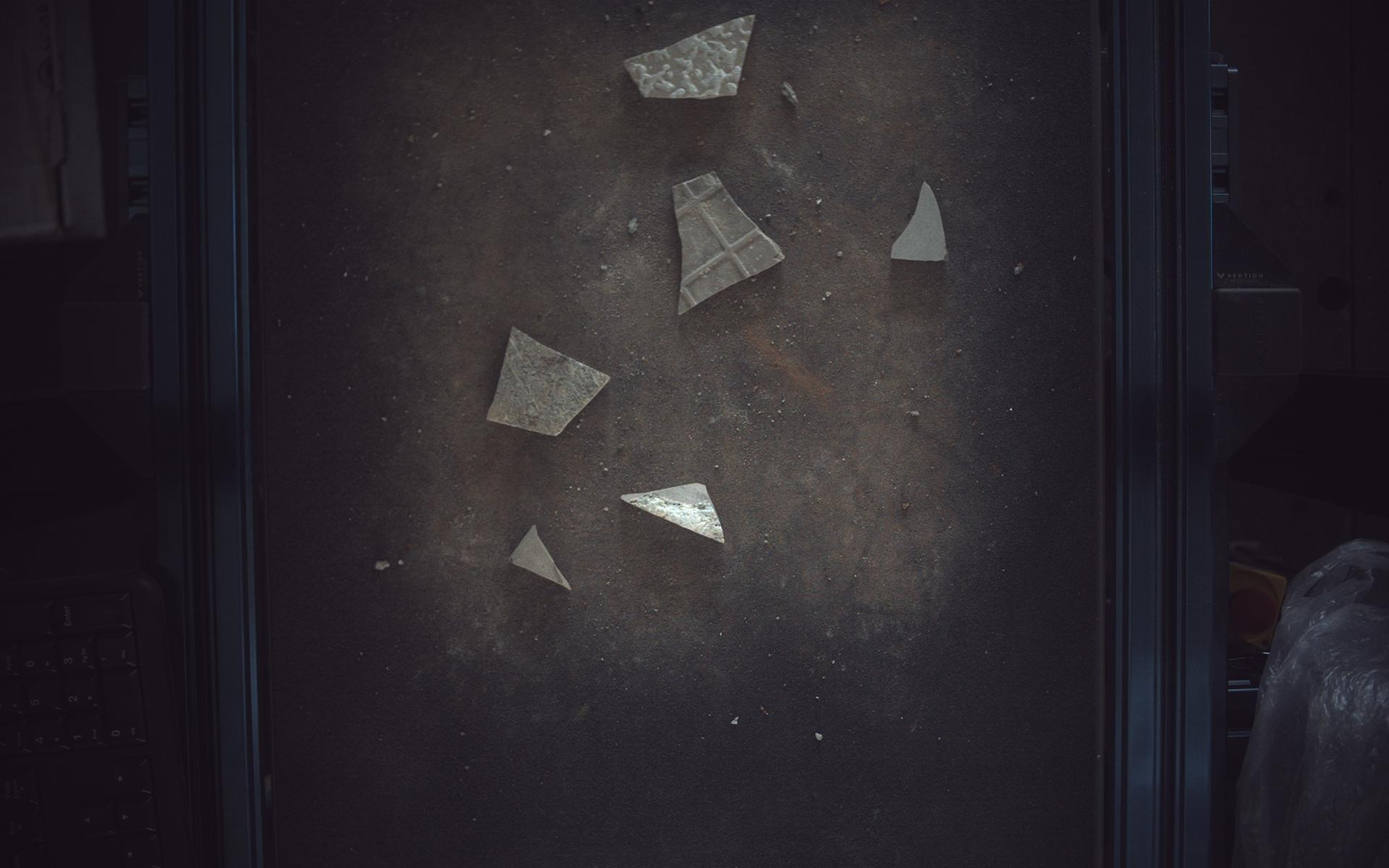tile: (674, 171, 786, 315), (488, 327, 611, 436), (624, 14, 756, 98), (622, 484, 726, 543), (893, 181, 949, 260), (511, 526, 571, 590)
